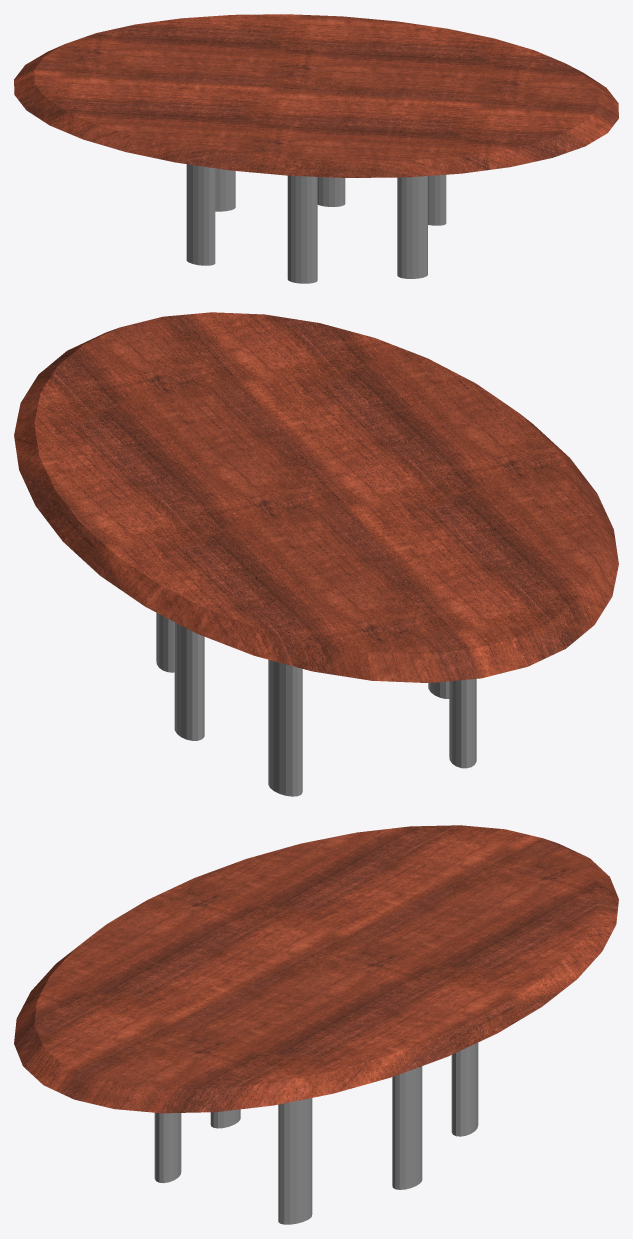
The picture shows the model from 3 angles, top to bottom: view 1: azimuth 30°, elevation 25°; view 2: azimuth 150°, elevation 25°; view 3: azimuth 270°, elevation 25°; orthographic projection. The views are drawn at different scales.
Visible parts, largest first — view 1: Konferenztisch_Desk_Wood, Konferenztisch_Desk_Leg; view 2: Konferenztisch_Desk_Wood, Konferenztisch_Desk_Leg; view 3: Konferenztisch_Desk_Wood, Konferenztisch_Desk_Leg.
Part boxes in pixels (left/top/right/bottom): Konferenztisch_Desk_Wood: left=14, top=14, right=618, bottom=177; Konferenztisch_Desk_Leg: left=186, top=164, right=446, bottom=283; Konferenztisch_Desk_Wood: left=14, top=312, right=618, bottom=682; Konferenztisch_Desk_Leg: left=156, top=612, right=476, bottom=796; Konferenztisch_Desk_Wood: left=14, top=825, right=618, bottom=1113; Konferenztisch_Desk_Leg: left=154, top=1042, right=478, bottom=1224.
Size of the model in its own units: 2.16 by 0.6923 by 1.95.
Materials: 3 (1 with a texture image).
